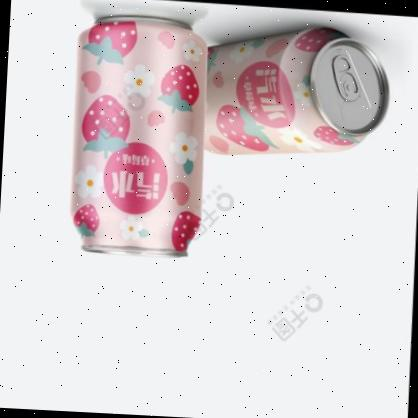can: (62, 12, 211, 262)
